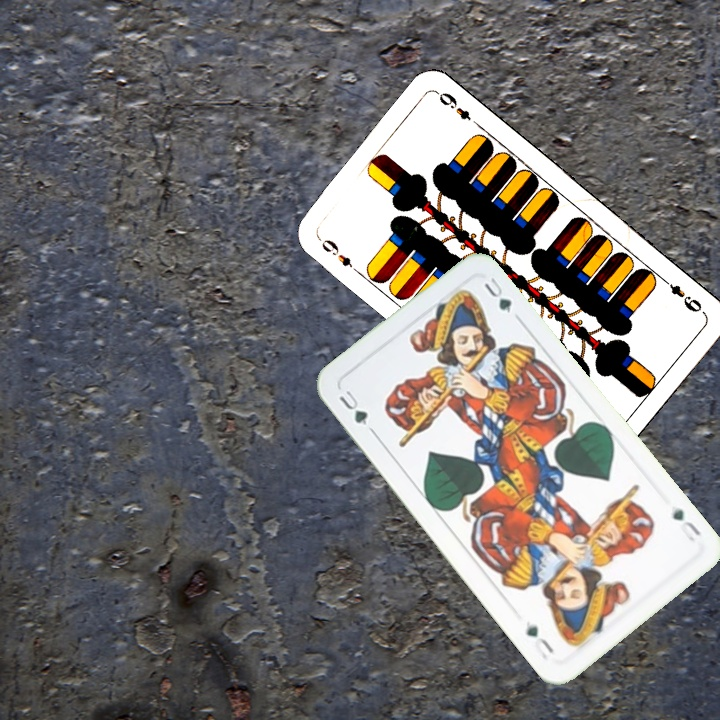E9: (314, 234, 363, 277), (657, 273, 705, 316)
GU: (334, 386, 371, 428), (668, 504, 703, 545)
